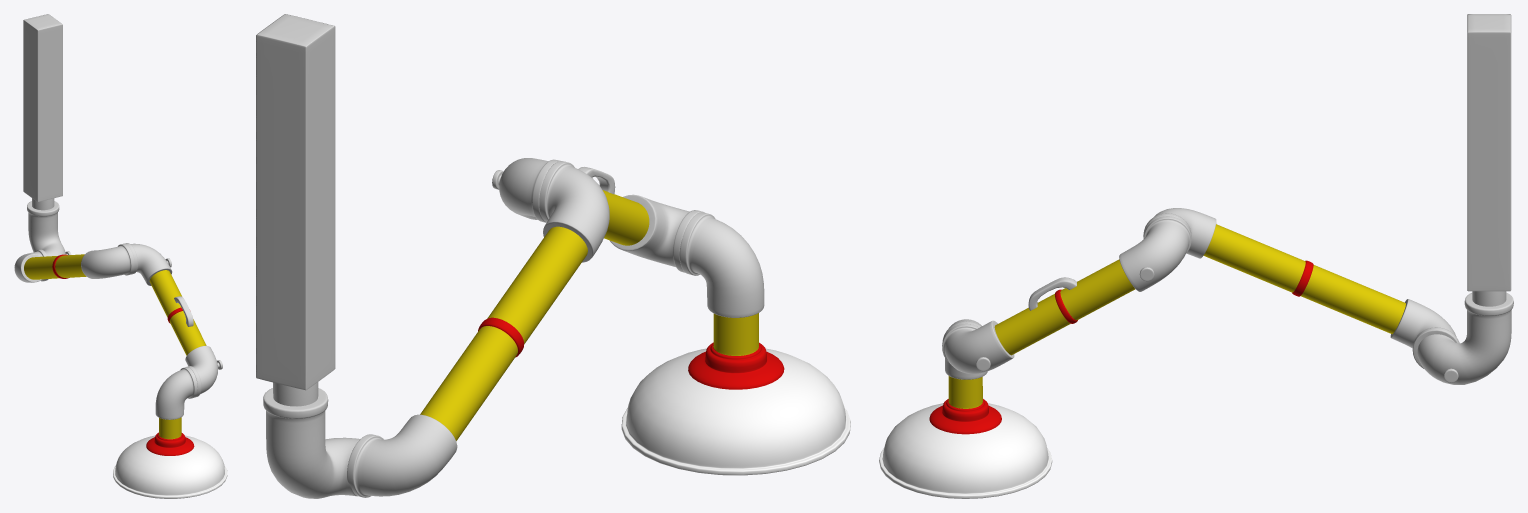
The model's file is AirVacuum.fbx.
The picture shows the model from 3 angles, left to right: view 1: azimuth 30°, elevation 25°; view 2: azimuth 150°, elevation 25°; view 3: azimuth 270°, elevation 25°; orthographic projection. The views are drawn at different scales.
Parts seen in each view (by area): view 1: vacuum_wall_holder, vacuum_hood.001, pipe03, curved_pipe06, curved_pipe03, curved_pipe01, pipe02, vacuum_hood, curved_pipe05, curved_pipe04, curved_pipe02, handle; view 2: vacuum_wall_holder, vacuum_hood.001, pipe02, curved_pipe01, curved_pipe02, curved_pipe06, vacuum_hood, curved_pipe03, curved_pipe05, curved_pipe04, pipe03, pipe01; view 3: vacuum_wall_holder, vacuum_hood.001, pipe02, curved_pipe01, pipe03, curved_pipe04, vacuum_hood, curved_pipe05, curved_pipe02, curved_pipe03.
Part boxes in pixels (<box>): vacuum_wall_holder: <box>23,14,62,201</box>; vacuum_hood.001: <box>113,435,227,498</box>; pipe03: <box>149,270,206,355</box>; curved_pipe06: <box>155,367,197,419</box>; curved_pipe03: <box>81,243,134,278</box>; curved_pipe01: <box>27,201,65,256</box>; pipe02: <box>24,254,86,279</box>; vacuum_hood: <box>146,417,194,455</box>; curved_pipe05: <box>185,345,218,397</box>; curved_pipe04: <box>124,243,172,285</box>; curved_pipe02: <box>14,249,48,282</box>; handle: <box>174,296,193,326</box>; vacuum_wall_holder: <box>256,14,335,390</box>; vacuum_hood.001: <box>621,348,850,475</box>; pipe02: <box>420,226,587,440</box>; curved_pipe01: <box>263,388,359,498</box>; curved_pipe02: <box>347,414,457,497</box>; curved_pipe06: <box>679,212,764,317</box>; vacuum_hood: <box>688,313,784,389</box>; curved_pipe03: <box>539,161,609,262</box>; curved_pipe05: <box>609,194,704,272</box>; curved_pipe04: <box>499,158,560,222</box>; pipe03: <box>602,190,649,245</box>; pipe01: <box>273,382,318,406</box>; vacuum_wall_holder: <box>1467,14,1511,291</box>; vacuum_hood.001: <box>879,403,1052,498</box>; pipe02: <box>1203,224,1405,334</box>; curved_pipe01: <box>1417,292,1513,384</box>; pipe03: <box>994,259,1135,355</box>; curved_pipe04: <box>1119,216,1191,291</box>; vacuum_hood: <box>929,376,1001,434</box>; curved_pipe05: <box>942,320,1014,373</box>; curved_pipe02: <box>1390,299,1459,368</box>; curved_pipe03: <box>1143,208,1216,258</box>.
Size of the model in its own units: 96.38 by 262 by 318.
